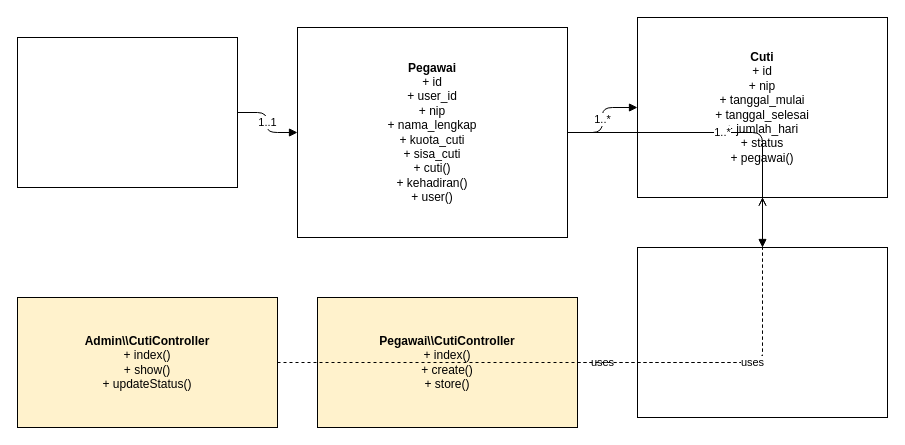
Image size: 905x445. Some labels were removed from this diagram. Here are the shapes that lost their labels. From the top down, the centre of each, then its label:
At [127,112]: "User + id + nip + name + email + role + pegawai()".
At [762,332]: "Kehadiran + id + nip + tanggal + status + keterangan + pegawai()".
